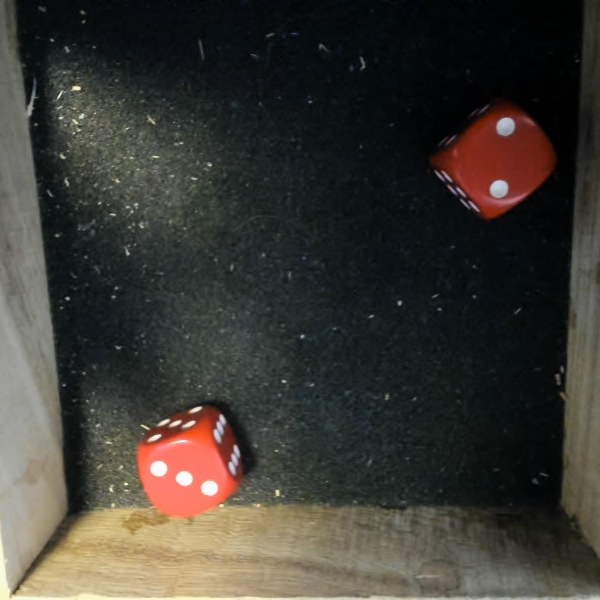red_die_pip2: (423, 92, 567, 236)
red_die_pip3: (119, 392, 259, 533)
